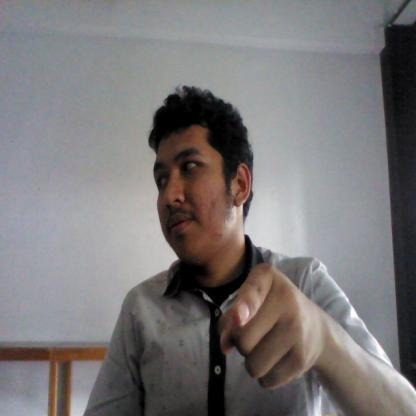Kamu: (212, 252, 346, 395)
